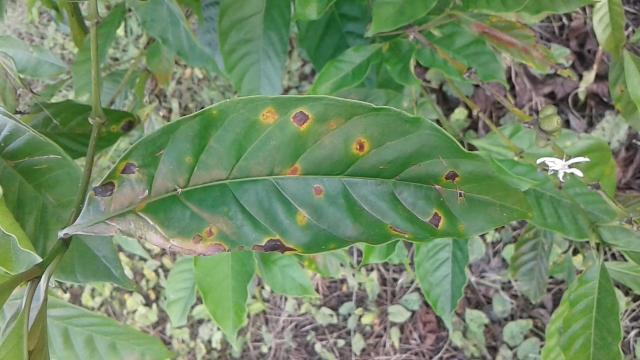rust_level_2: (61, 94, 534, 255)
